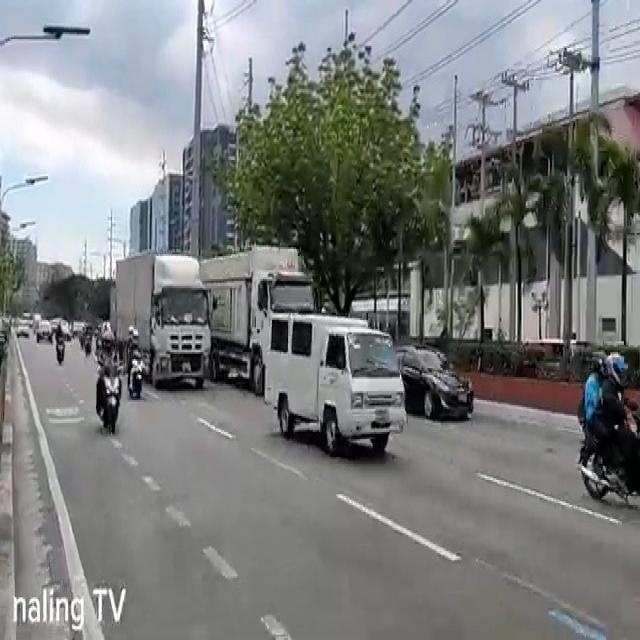car: (397, 343, 475, 424)
motorcycle: (577, 348, 640, 505), (96, 330, 121, 434), (124, 326, 144, 404)
truck: (266, 313, 406, 465), (202, 245, 314, 394), (116, 250, 212, 388)
